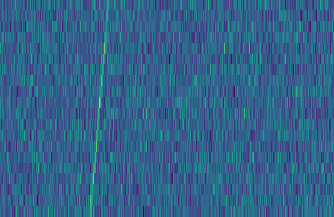signal: (84, 0, 112, 217)
